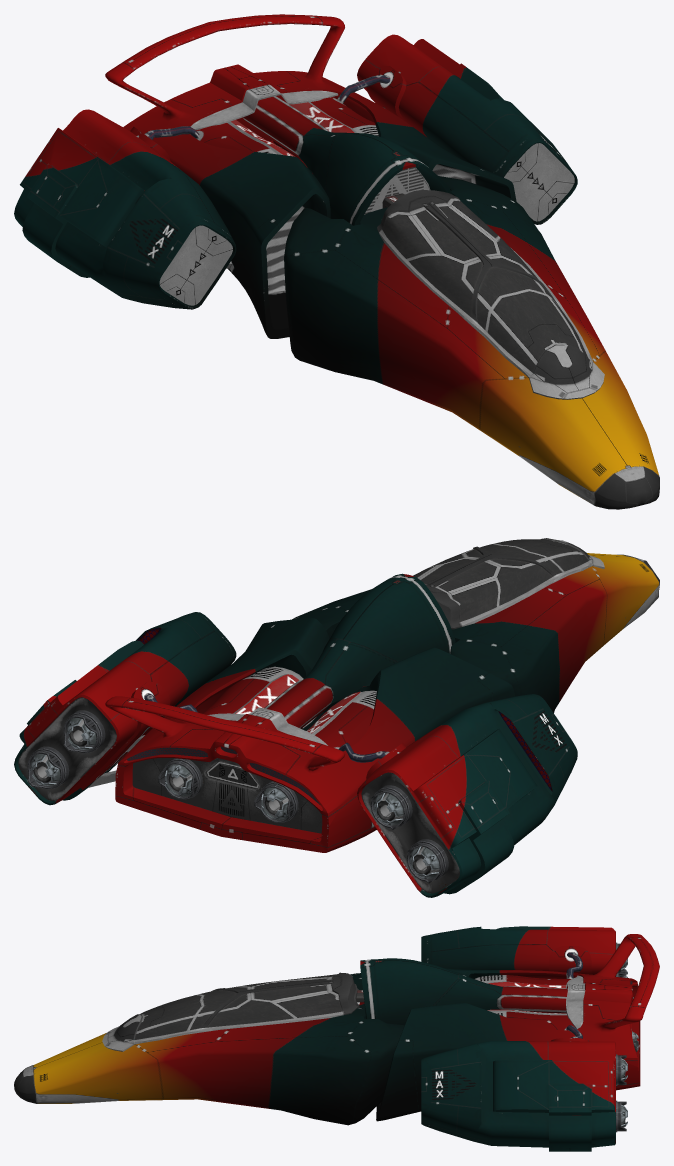
The model's file is Spaceship.gltf.
3 renders of one model, top to bottom at view 1: azimuth 30°, elevation 25°; view 2: azimuth 150°, elevation 25°; view 3: azimuth 270°, elevation 25°, orthographic. The views are drawn at different scales.
Visible parts, largest first — view 1: front_Material #482_0; view 2: front_Material #482_0; view 3: front_Material #482_0.
Boxes of the visible parts, bbox=[...] form: front_Material #482_0: bbox=[14, 14, 659, 509]; front_Material #482_0: bbox=[14, 538, 659, 897]; front_Material #482_0: bbox=[14, 926, 659, 1151].
Bounding box in the file's own units: 0.0086 × 0.00317 × 0.014.
1 material, 1 textured.
